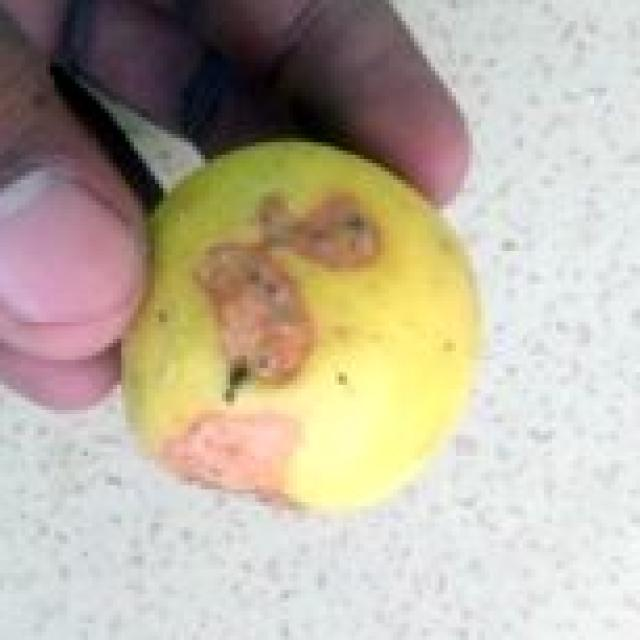Bad_Lime-0-1-day: (121, 138, 485, 519)
